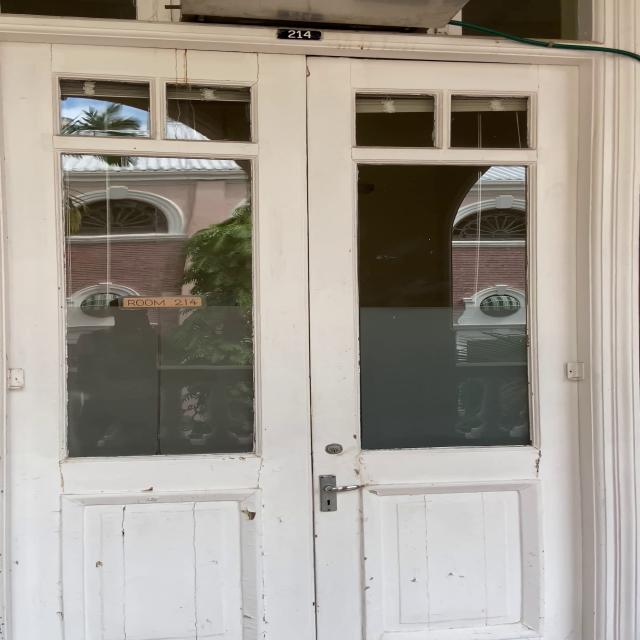room214: (277, 26, 324, 42)
room214Window: (111, 290, 210, 312)
